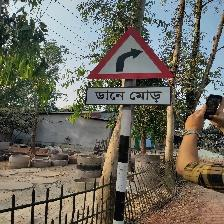Right-turn: (85, 26, 175, 107)
